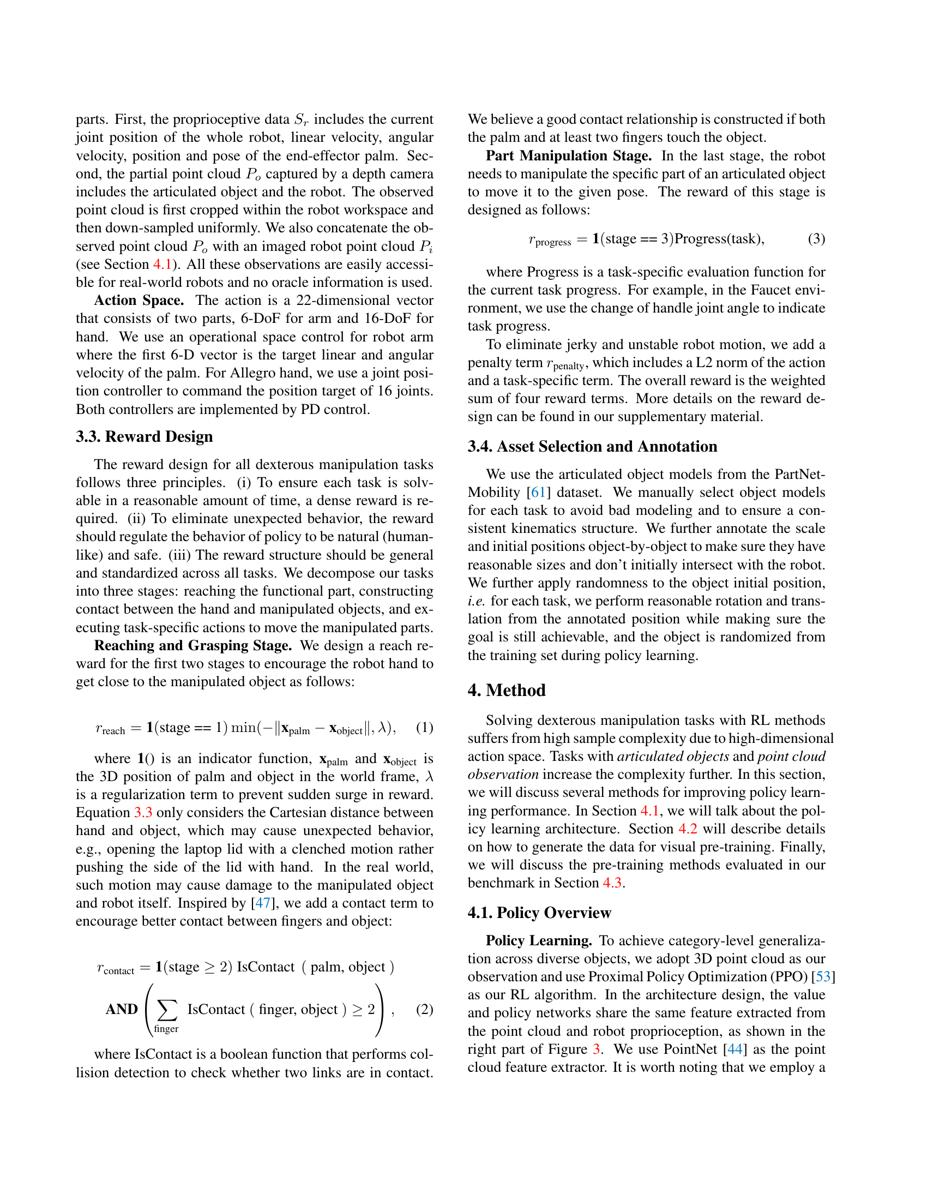text: (69, 716, 438, 1084), (462, 106, 830, 428), (69, 109, 438, 419), (69, 424, 438, 694), (462, 435, 830, 668), (462, 677, 838, 893), (462, 902, 838, 1079)
